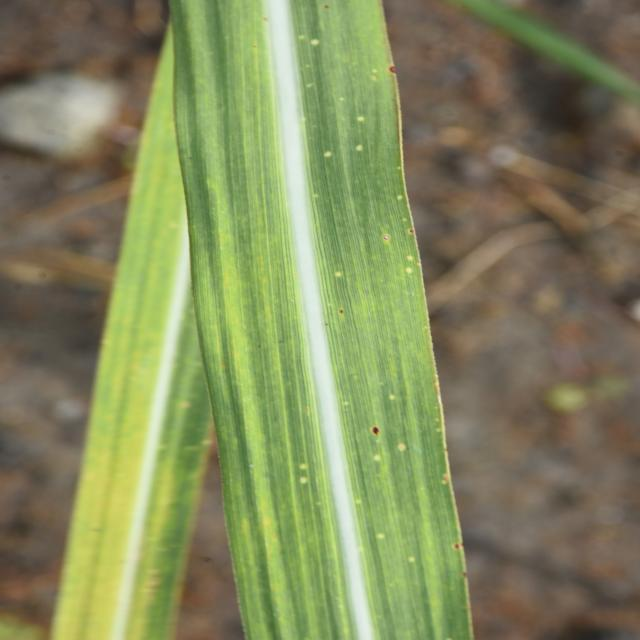Sugarcane: (160, 0, 464, 640)
